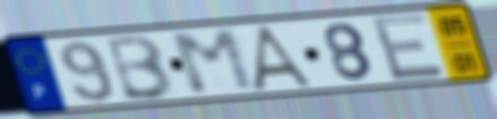8: (322, 21, 376, 83)
9: (55, 38, 118, 104)
A: (249, 22, 322, 92)
B: (105, 32, 177, 102)
E: (367, 11, 449, 84)
M: (166, 26, 262, 98)
